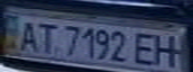1: (78, 25, 96, 58)
2: (109, 28, 133, 63)
7: (60, 22, 81, 56)
9: (93, 26, 112, 61)
A: (12, 18, 42, 53)
E: (130, 30, 163, 66)
H: (148, 31, 184, 69)
T: (33, 20, 60, 54)
